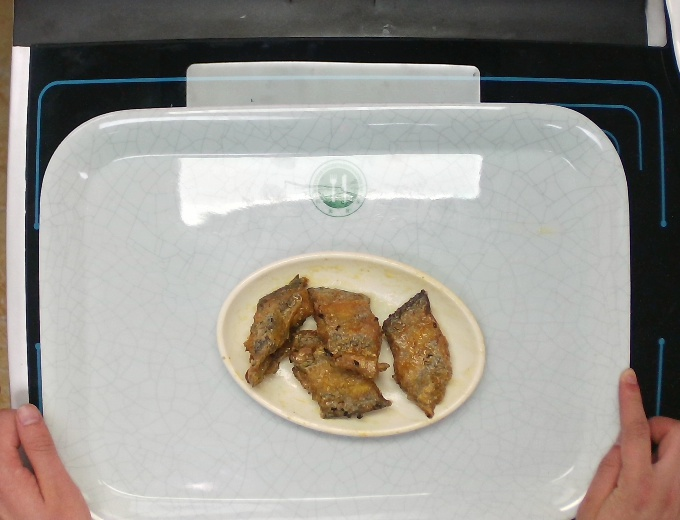JYsf-Tuo_Yuan_Wan: (218, 251, 487, 436)
